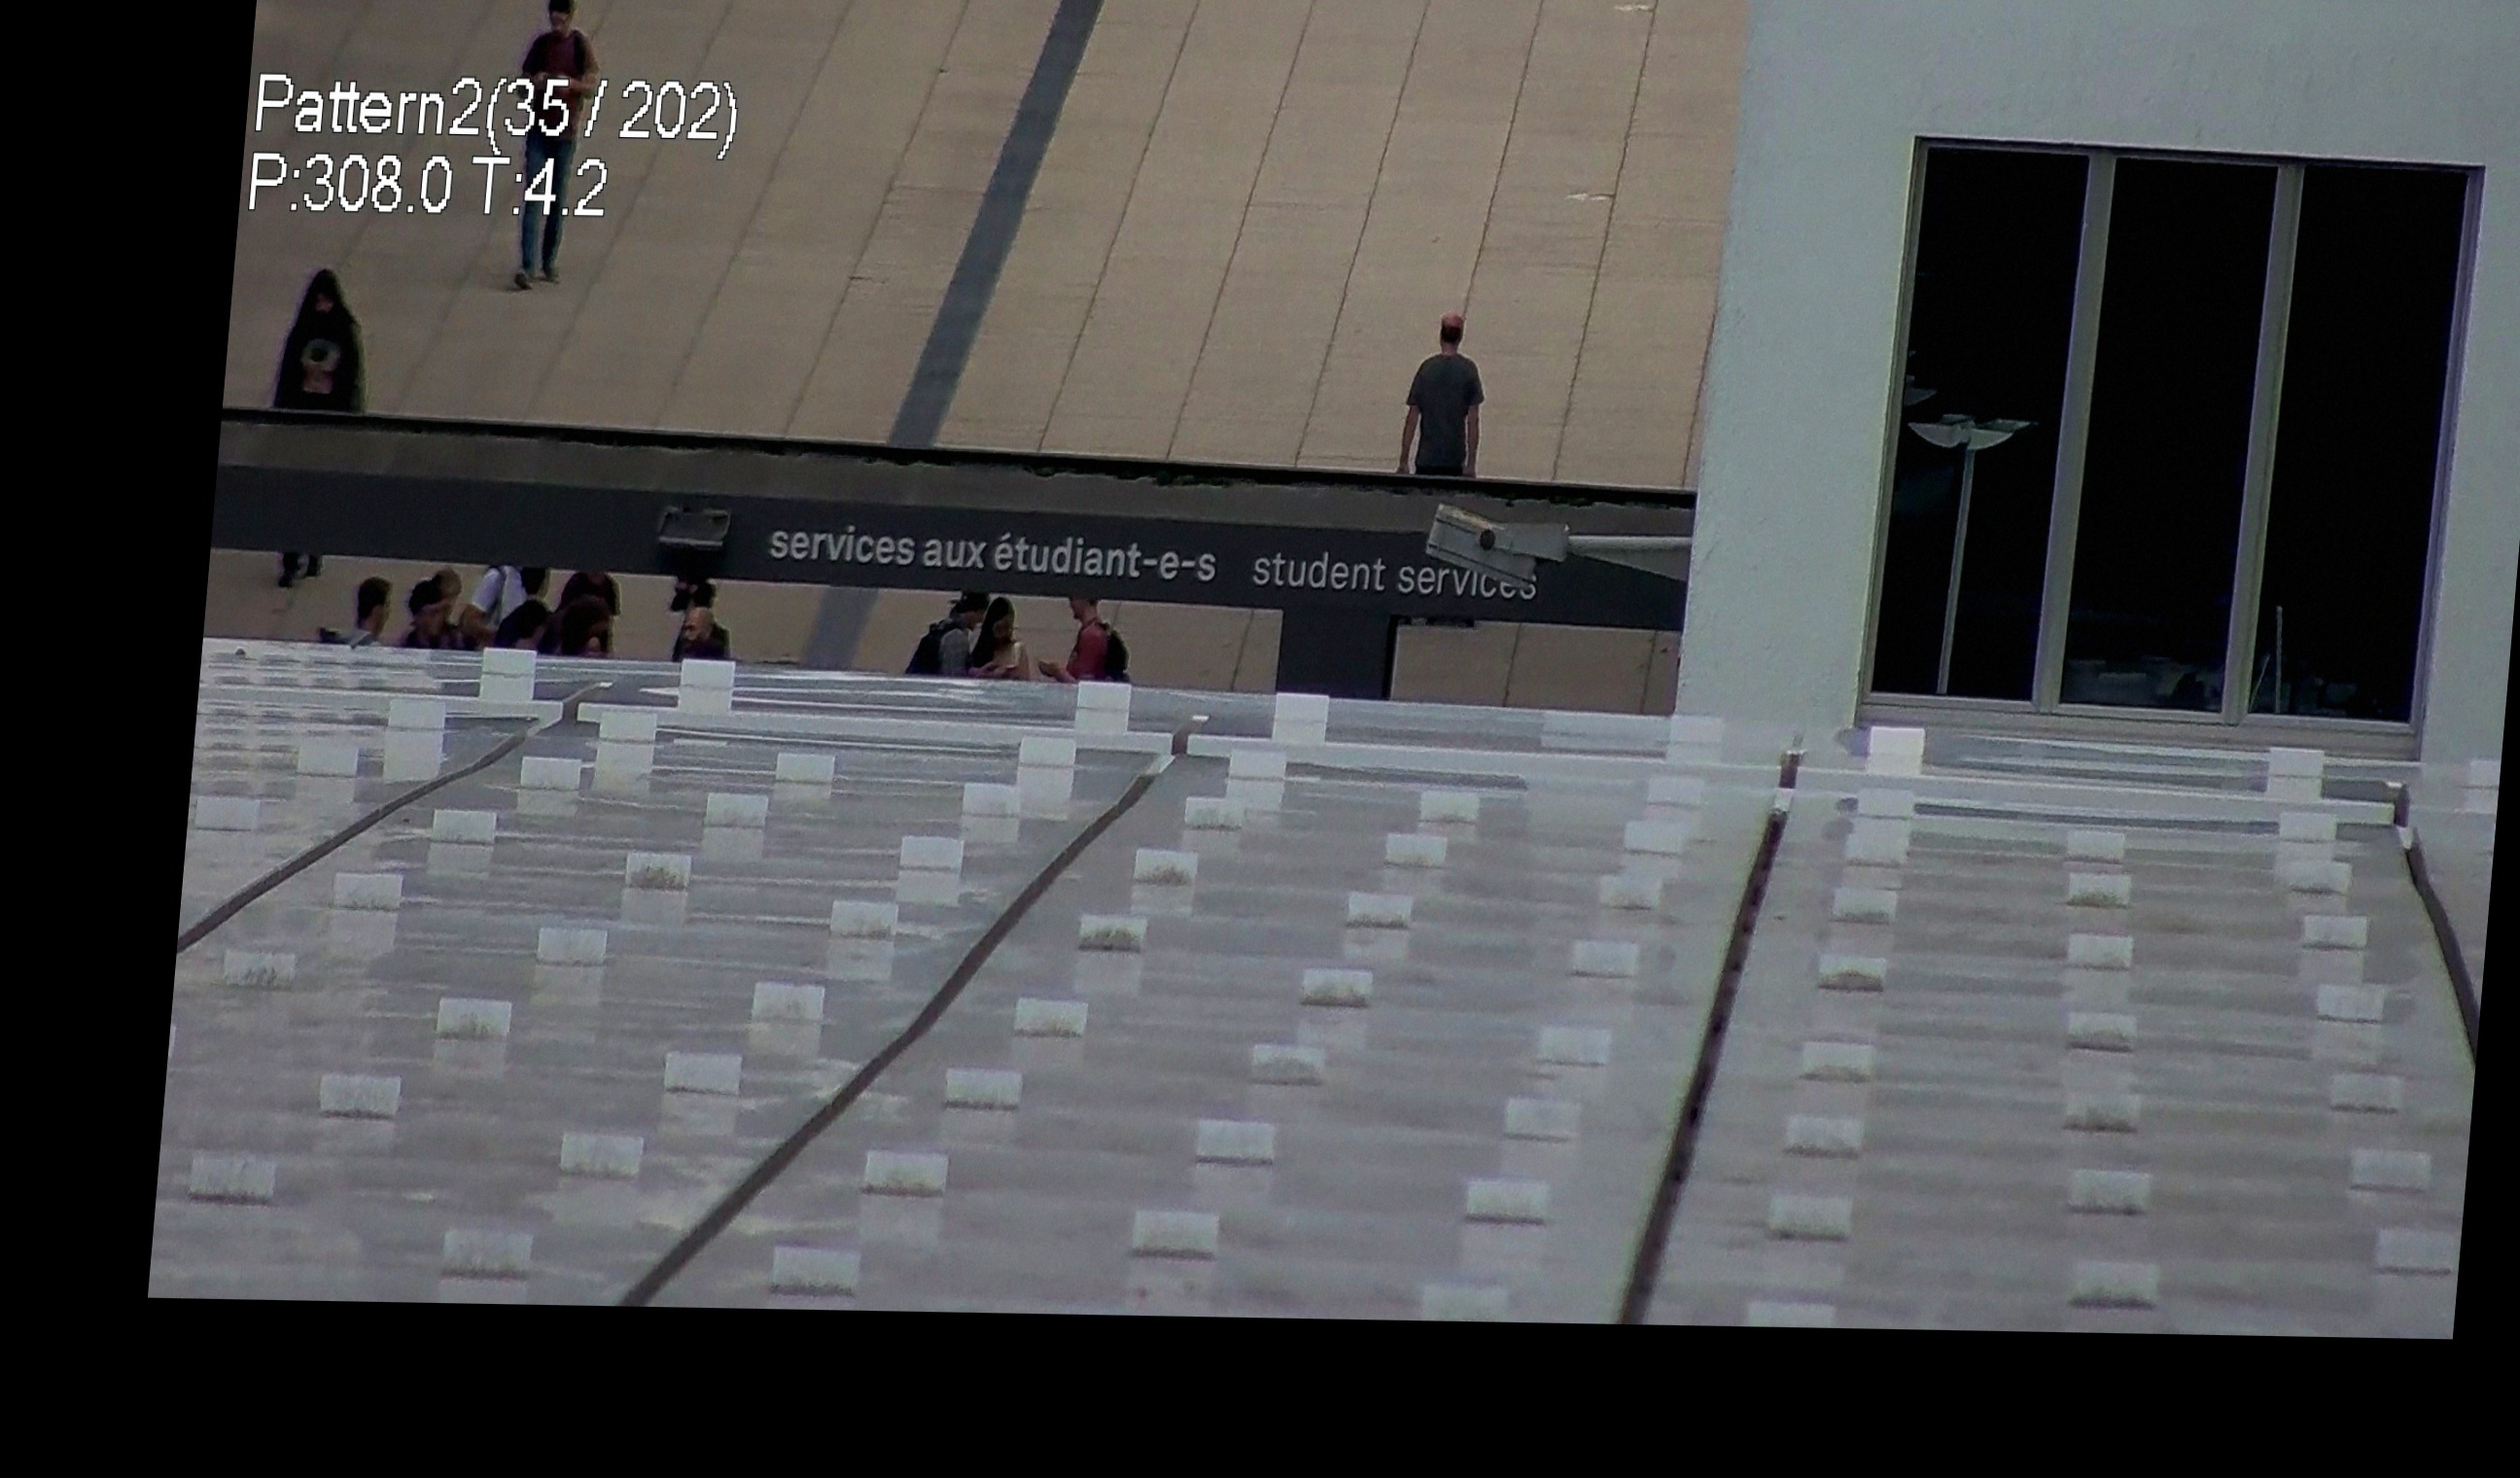Other: (259, 253, 382, 428), (1298, 616, 1391, 764)
